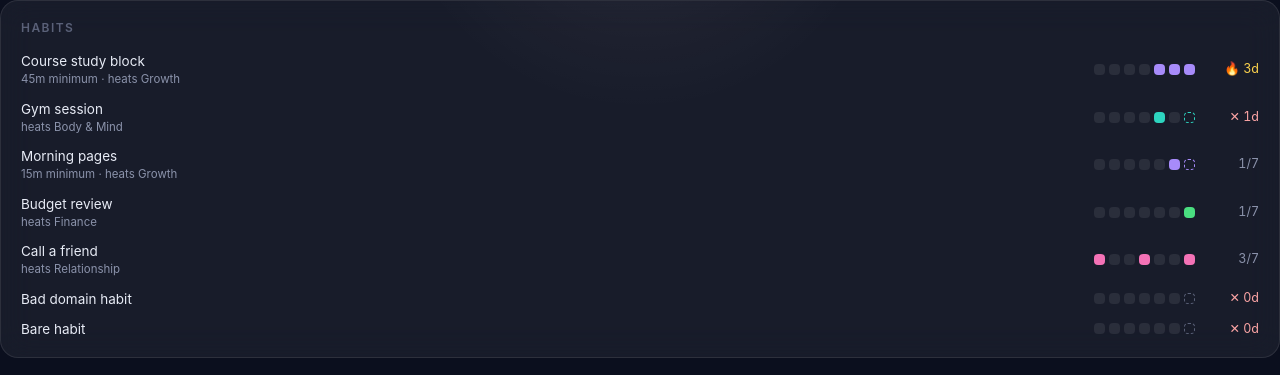
Test case: HabitsCard — tap today (DoD 2) › tapping an unhit today square appends exactly one S30-serialized line with source:: pwa, and flips the square
Click the 2nd button with test id "habit-today-square": (1190, 117) [1184,112,1195,123]
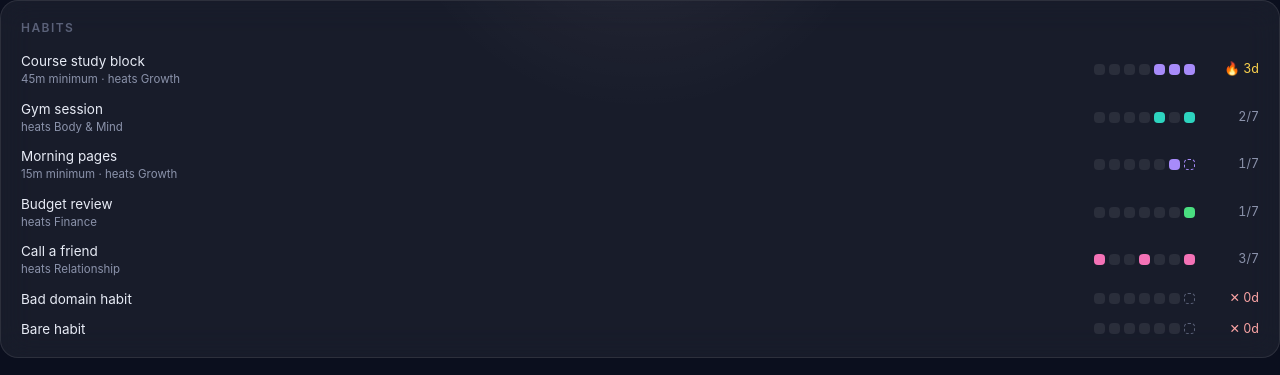
Now the 2nd button with test id "habit-today-square" is disabled, box [1184,112,1195,123]
